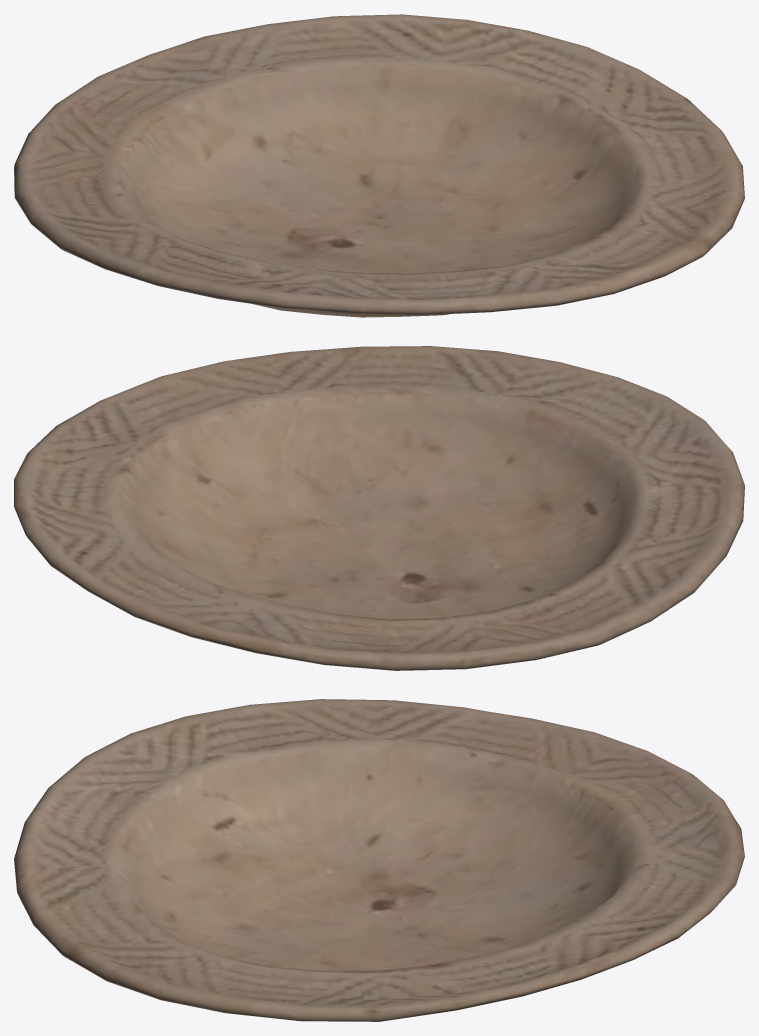
File: carved_wooden_plate.glb
3 renders of one model, top to bottom at view 1: azimuth 30°, elevation 25°; view 2: azimuth 150°, elevation 25°; view 3: azimuth 270°, elevation 25°, orthographic. The views are drawn at different scales.
Parts seen in each view (by area): view 1: carved_wooden_plate; view 2: carved_wooden_plate; view 3: carved_wooden_plate.
Boxes of the visible parts, x1,y1,x2,y2 form: carved_wooden_plate: (14, 14, 744, 317); carved_wooden_plate: (14, 346, 744, 670); carved_wooden_plate: (14, 699, 744, 1021).
Size of the model in its own units: 0.2718 by 0.0381 by 0.2688.
Materials: 1 (1 with a texture image).
